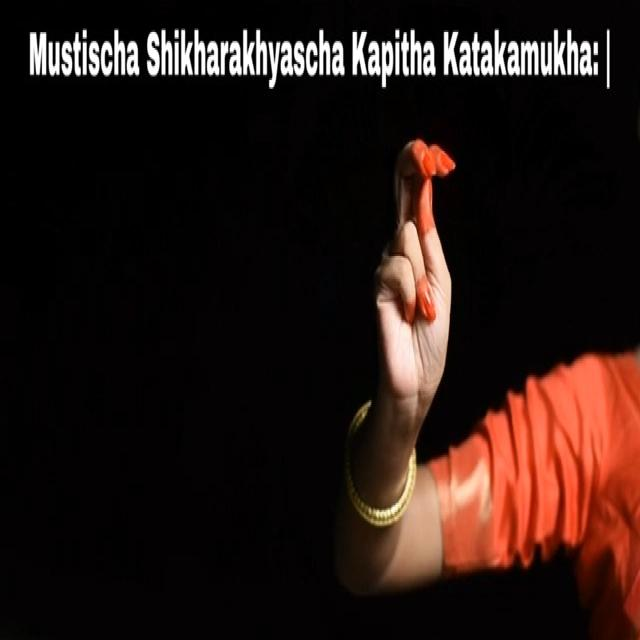Katakamukha: (360, 123, 477, 441)
bangle: (330, 440, 430, 540)
text: (28, 14, 616, 98)
